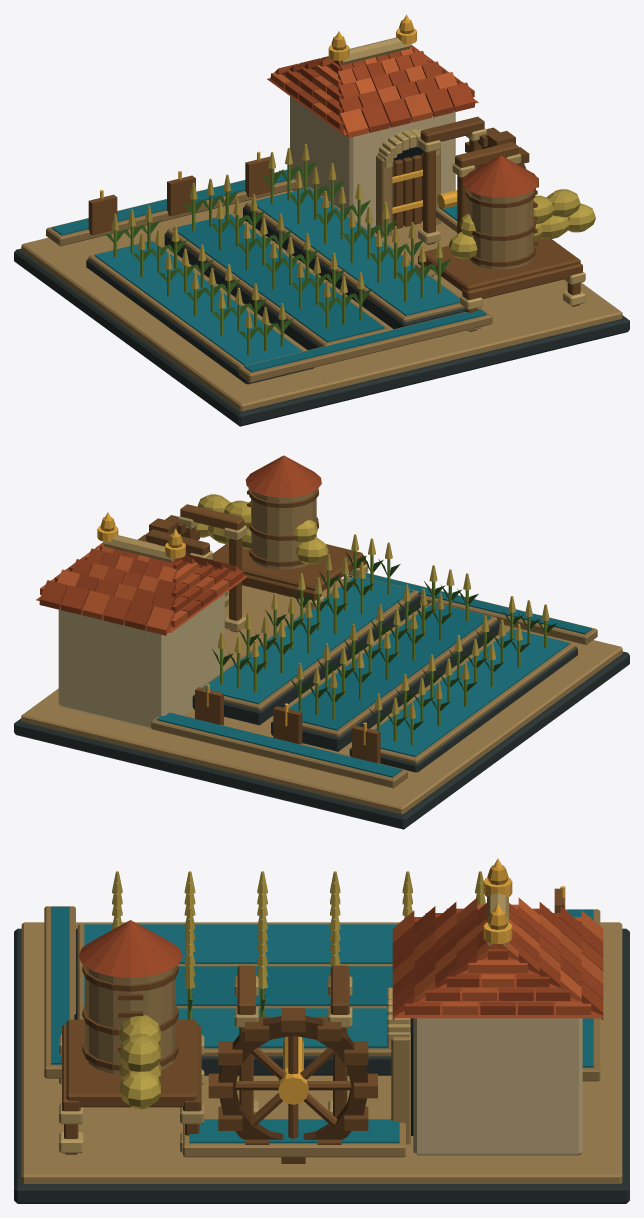
3 views of the same model, one above another, from view 1: azimuth 30°, elevation 25°; view 2: azimuth 150°, elevation 25°; view 3: azimuth 270°, elevation 25° (orthographic). The views are drawn at different scales.
Parts seen in each view (by area): view 1: farm_7_structure, farm_7_metal; view 2: farm_7_structure, farm_7_metal; view 3: farm_7_structure, farm_7_metal.
Part boxes in pixels (left/top/right/bottom): farm_7_structure: left=14, top=19, right=629, bottom=426; farm_7_metal: left=100, top=14, right=457, bottom=213; farm_7_structure: left=14, top=455, right=629, bottom=829; farm_7_metal: left=97, top=512, right=366, bottom=745; farm_7_structure: left=14, top=865, right=629, bottom=1203; farm_7_metal: left=278, top=858, right=565, bottom=1104.
Size of the model in its own units: 5.6 by 2.65 by 5.46.
